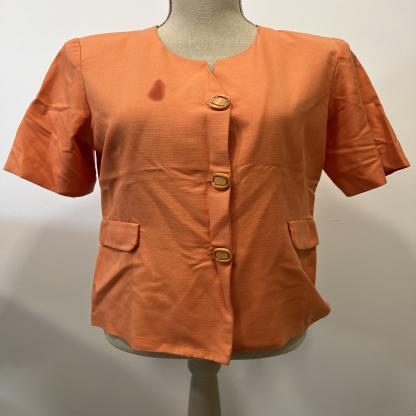stain: (144, 77, 170, 104)
